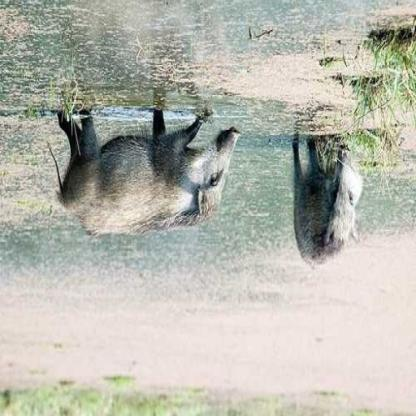boar: (36, 102, 240, 249), (282, 116, 377, 264)
